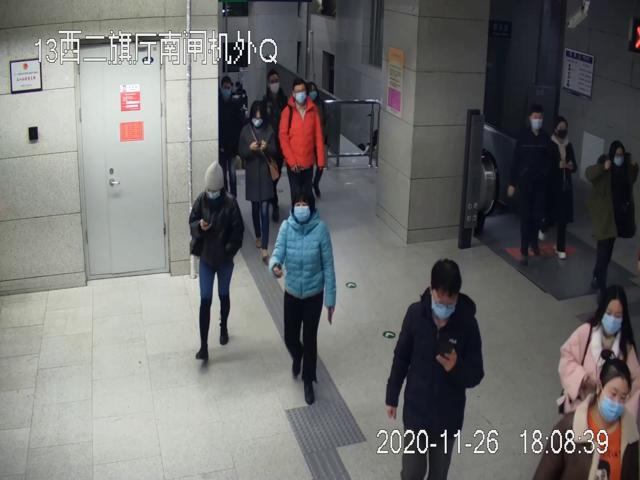person: (387, 258, 486, 480), (269, 192, 337, 404), (559, 283, 640, 431), (190, 161, 245, 359), (585, 140, 639, 293), (504, 104, 550, 264), (237, 102, 277, 259), (278, 77, 325, 207), (541, 114, 578, 262)
